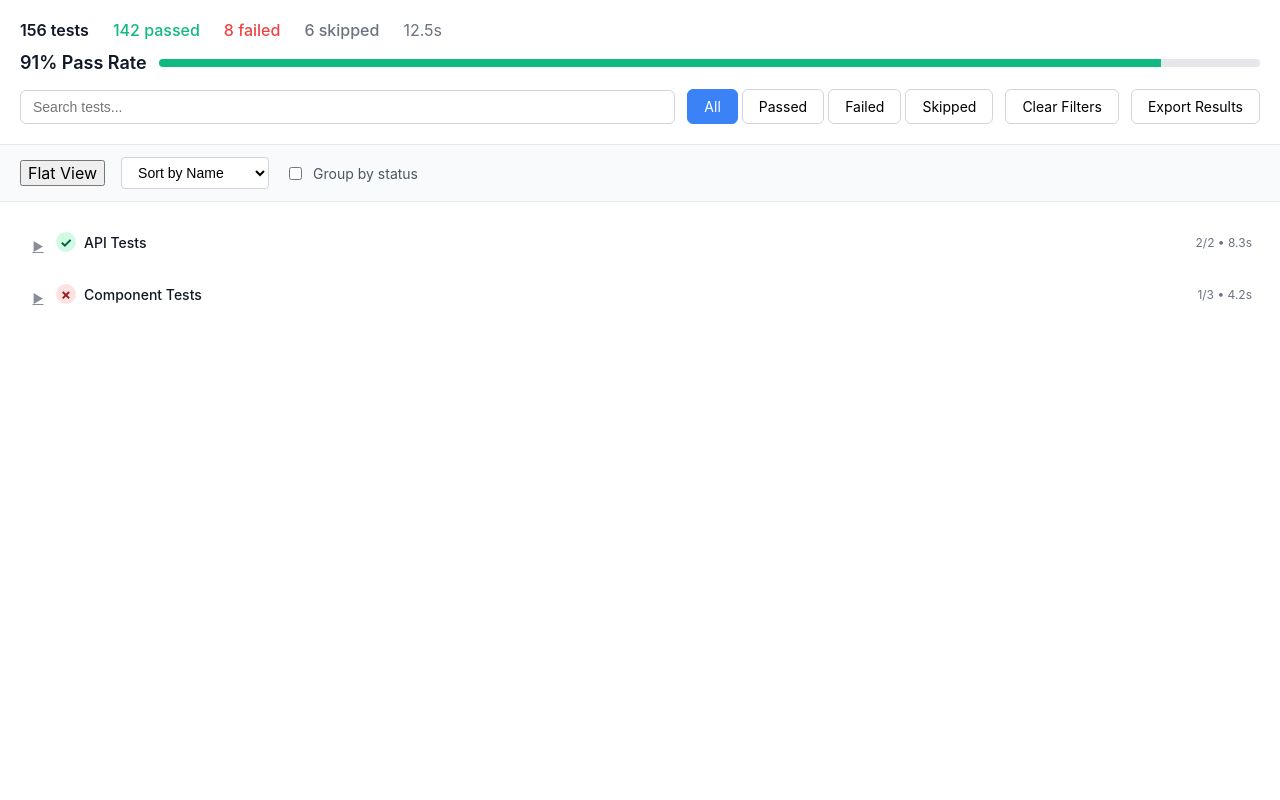
TestResultsView › Individual Tests › displays error details for failed tests
The width and height of the screenshot is (1280, 800).
Click the button with test id "expand-suite-1" at x=38, y=298, box [28,288,48,308]
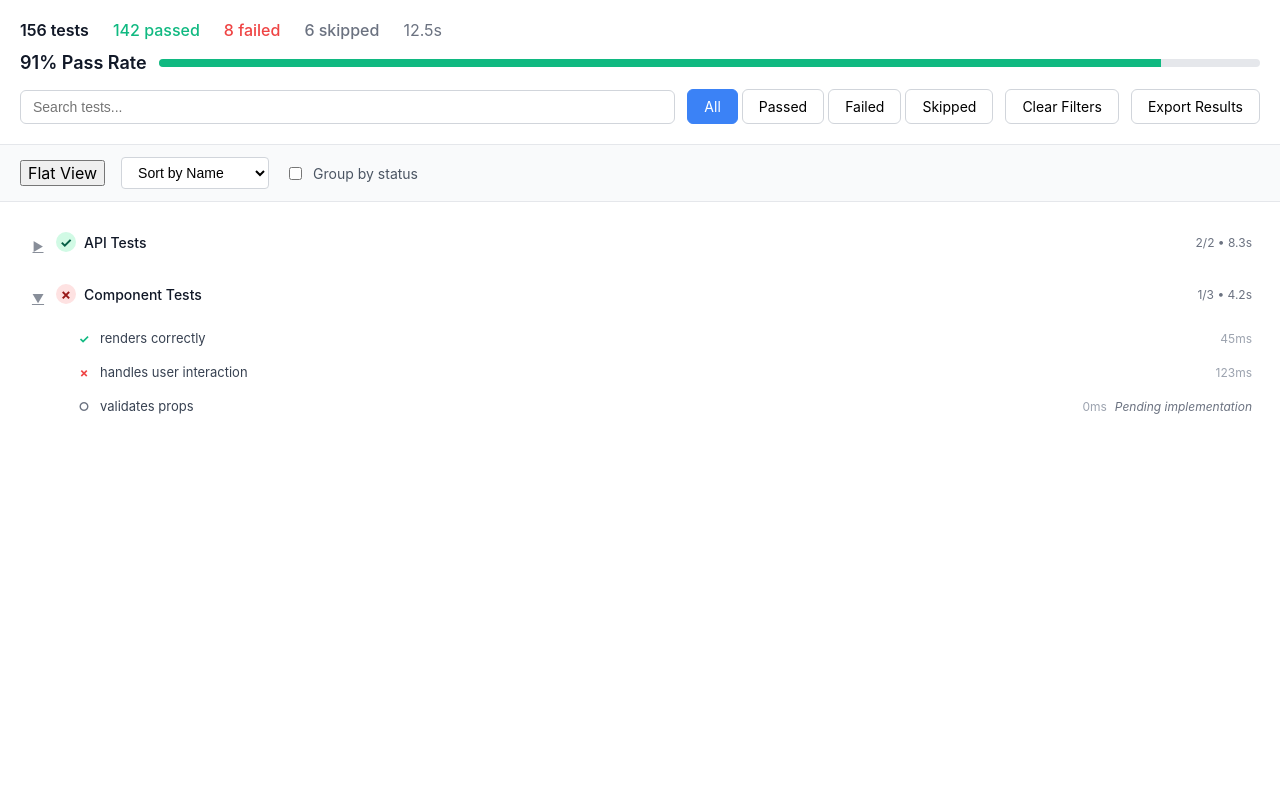
Click the text "handles user interaction" at x=174, y=372, box [100,364,248,380]
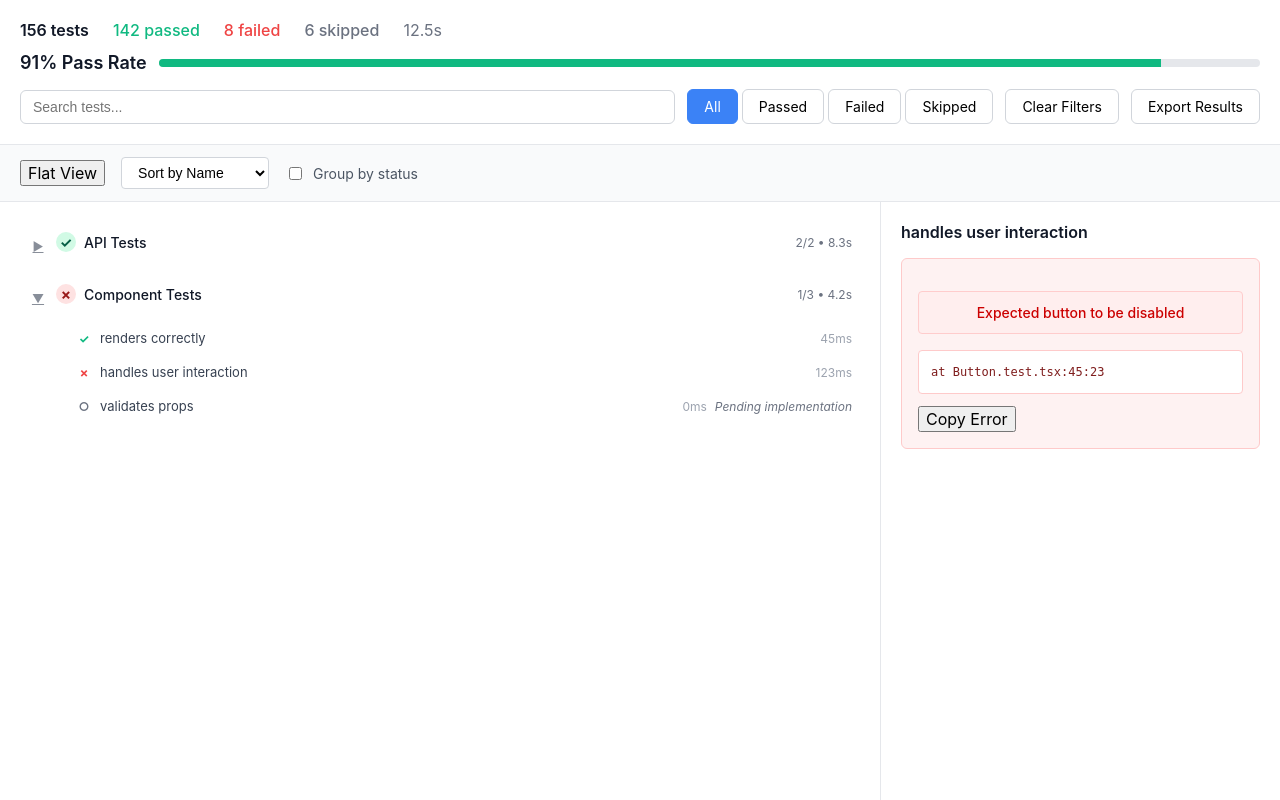
expect the text "Expected button to be disabled" is shown: met, box [918,291,1243,334]
expect the text "at Button.test.tsx:45:23" is shown: met, box [918,350,1243,394]
